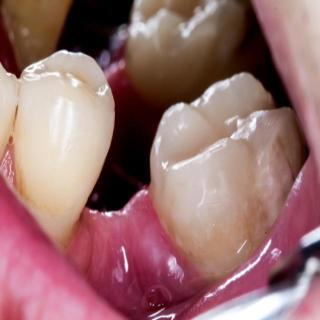plaque: (213, 146, 307, 242)
